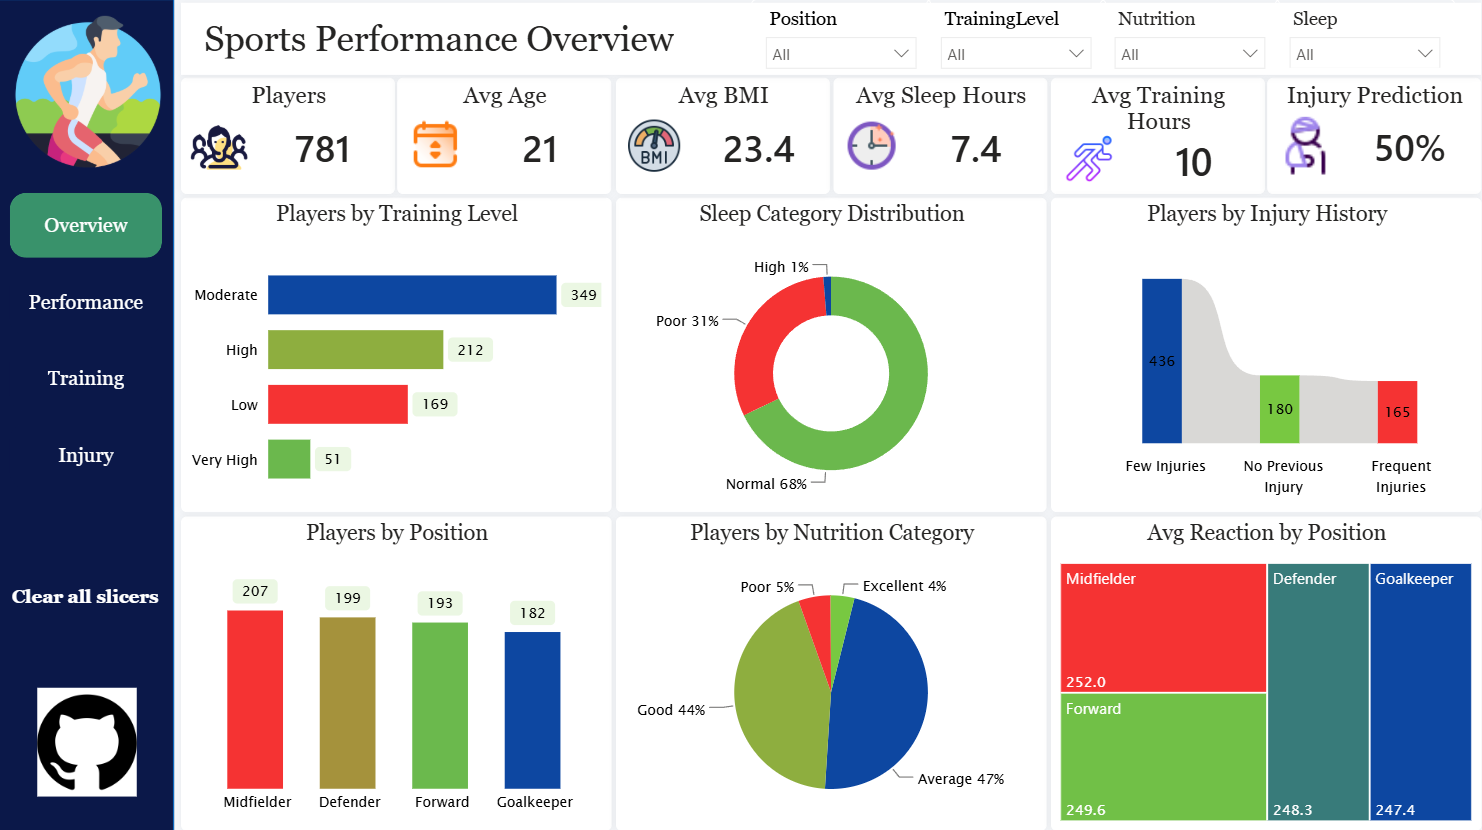

The dashboard page shown, as its layout file describes it:
{"tool":"powerbi","page":{"name":"Overview","canvas":[1280,720],"ordinal":0},"visuals":[{"type":"shape","box":[0,0,153.2,720.2],"z":0},{"type":"clusteredColumnChart","title":"Players by Position","fields":{"Category":["Dim_Position.Position"],"Y":["All Measures.Total Players"]},"box":[159,445,370,270],"z":1000},{"type":"pieChart","title":"Players by Nutrition Category","fields":{"Category":["Dim_Nutrition.Nutrition_Category"],"Y":["All Measures.Total Players"]},"box":[533,445,370,270],"z":2000},{"type":"donutChart","title":"Sleep Category Distribution","fields":{"Category":["Dim_SleepCategory.Sleep_Category"],"Y":["All Measures.Total Players"]},"box":[533.2,171,370,270],"z":3000},{"type":"barChart","title":"Players by Training Level","fields":{"Category":["Dim_TrainingLevel.TrainingLevel"],"Y":["All Measures.Total Players"]},"box":[159.3,171,370,270],"z":4000},{"type":"cardVisual","title":"Players","fields":{"Data":["All Measures.Total Players"]},"box":[159.3,68,184,100],"z":5000},{"type":"cardVisual","title":"Avg Age","fields":{"Data":["All Measures.Average Age"]},"box":[345,68,184,100],"z":6000},{"type":"cardVisual","title":"Avg BMI","fields":{"Data":["All Measures.Average BMI"]},"box":[533.2,68,184,100],"z":7000},{"type":"cardVisual","title":"Avg Sleep Hours","fields":{"Data":["All Measures.Avg Sleep Hours"]},"box":[720.2,68,184,100],"z":8000},{"type":"cardVisual","title":"Avg Training Hours","fields":{"Data":["All Measures.Avg Training Hours"]},"box":[907.2,68,184,100],"z":9000},{"type":"cardVisual","title":"Injury Prediction","fields":{"Data":["All Measures.Injury Prediction %"]},"box":[1093,68,184,100],"z":10000},{"type":"treemap","title":"Avg Reaction by Position","fields":{"Group":["Dim_Position.Position"],"Values":["All Measures.Avg Reaction Time"]},"box":[907,445,370,270],"z":11000},{"type":"ribbonChart","title":"Players by Injury History","fields":{"Category":["Dim_InjuryHistory.Injury_History"],"Y":["All Measures.Players"]},"box":[907.2,171.3,370,270],"z":12000},{"type":"shape","box":[159.3,3.6,1118.4,62],"z":13000},{"type":"slicer","title":"Training Level Distribution","fields":{"Values":["Dim_Position.Position"]},"box":[650,0,155,63.9],"z":14000},{"type":"slicer","title":"Training Level Distribution","fields":{"Values":["Dim_TrainingLevel.TrainingLevel"]},"box":[800,0,155,62.7],"z":15000},{"type":"slicer","title":"Training Level Distribution","fields":{"Values":["Dim_Nutrition.Nutrition_Category"]},"box":[950,0,155,63.9],"z":16000},{"type":"slicer","title":"Training Level Distribution","fields":{"Values":["Dim_SleepCategory.Sleep_Category"]},"box":[1100,0,155,60.3],"z":17000},{"type":"image","box":[13.5,9.8,130.1,139.9],"z":18000},{"type":"pageNavigator","box":[12.3,166.9,131.5,257],"z":19000},{"type":"image","box":[35.6,592.6,85.9,93.3],"z":20000},{"type":"actionButton","box":[0,489.6,153.4,50.3],"z":21000}]}

Visuals, with their boxes in screenshot pixels (x1, y1, x2, y2), scaled from the page's 1280x720 canvas onto the 1482x830 screenshot:
shape: [0, 0, 177, 829]
"Players by Position" clusteredColumnChart: [184, 513, 612, 824]
"Players by Nutrition Category" pieChart: [617, 513, 1046, 824]
"Sleep Category Distribution" donutChart: [617, 197, 1046, 508]
"Players by Training Level" barChart: [184, 197, 613, 508]
"Players" cardVisual: [184, 78, 397, 194]
"Avg Age" cardVisual: [399, 78, 612, 194]
"Avg BMI" cardVisual: [617, 78, 830, 194]
"Avg Sleep Hours" cardVisual: [834, 78, 1047, 194]
"Avg Training Hours" cardVisual: [1050, 78, 1263, 194]
"Injury Prediction" cardVisual: [1265, 78, 1479, 194]
"Avg Reaction by Position" treemap: [1050, 513, 1479, 824]
"Players by Injury History" ribbonChart: [1050, 197, 1479, 509]
shape: [184, 4, 1479, 76]
"Training Level Distribution" slicer: [753, 0, 932, 74]
"Training Level Distribution" slicer: [926, 0, 1106, 72]
"Training Level Distribution" slicer: [1100, 0, 1279, 74]
"Training Level Distribution" slicer: [1274, 0, 1453, 70]
image: [16, 11, 166, 173]
pageNavigator: [14, 192, 166, 489]
image: [41, 683, 141, 791]
actionButton: [0, 564, 178, 622]
